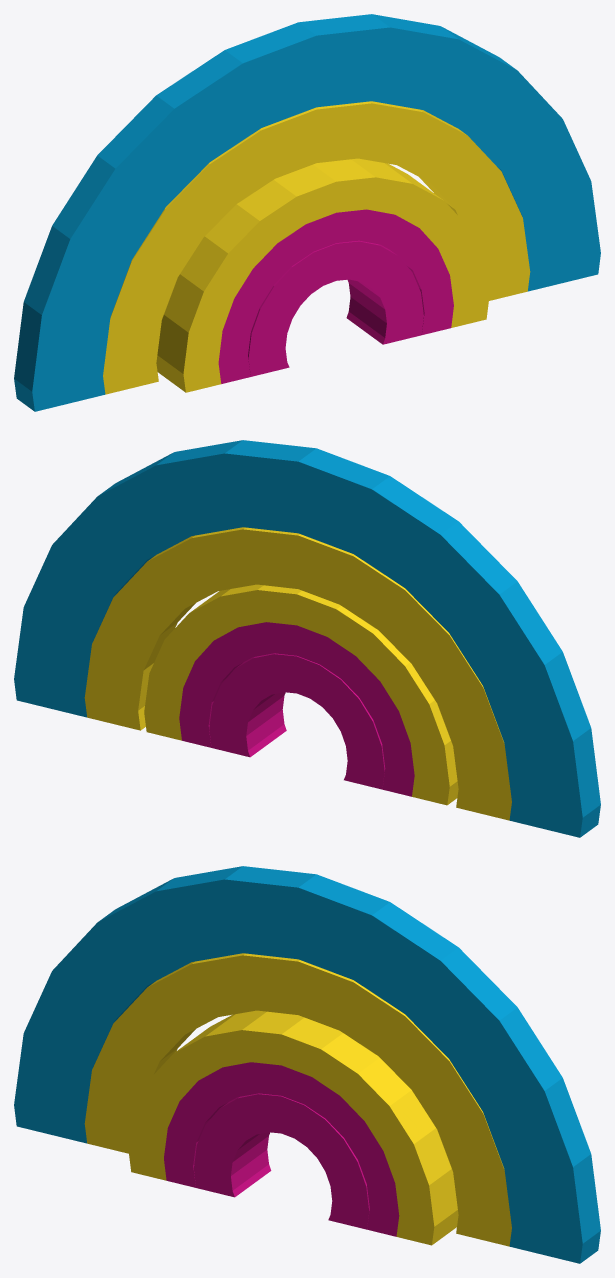
The model's file is tinker.obj.
The picture shows the model from 3 angles, top to bottom: view 1: azimuth 30°, elevation 25°; view 2: azimuth 150°, elevation 25°; view 3: azimuth 330°, elevation 25°; orthographic projection.
Parts seen in each view (by area): view 1: group_0_40919, group_0_16768282, group_0_14093196; view 2: group_0_40919, group_0_16768282, group_0_14093196; view 3: group_0_40919, group_0_16768282, group_0_14093196.
Part boxes in pixels (x1,y1,x2,y2): group_0_40919: (14, 14, 600, 411); group_0_16768282: (103, 101, 530, 394); group_0_14093196: (218, 209, 453, 383); group_0_40919: (14, 440, 600, 837); group_0_16768282: (84, 527, 511, 820); group_0_14093196: (179, 622, 414, 796); group_0_40919: (14, 866, 600, 1263); group_0_16768282: (84, 953, 511, 1246); group_0_14093196: (164, 1062, 399, 1236).
Bounding box in the file's own units: 180 × 93 × 20.
